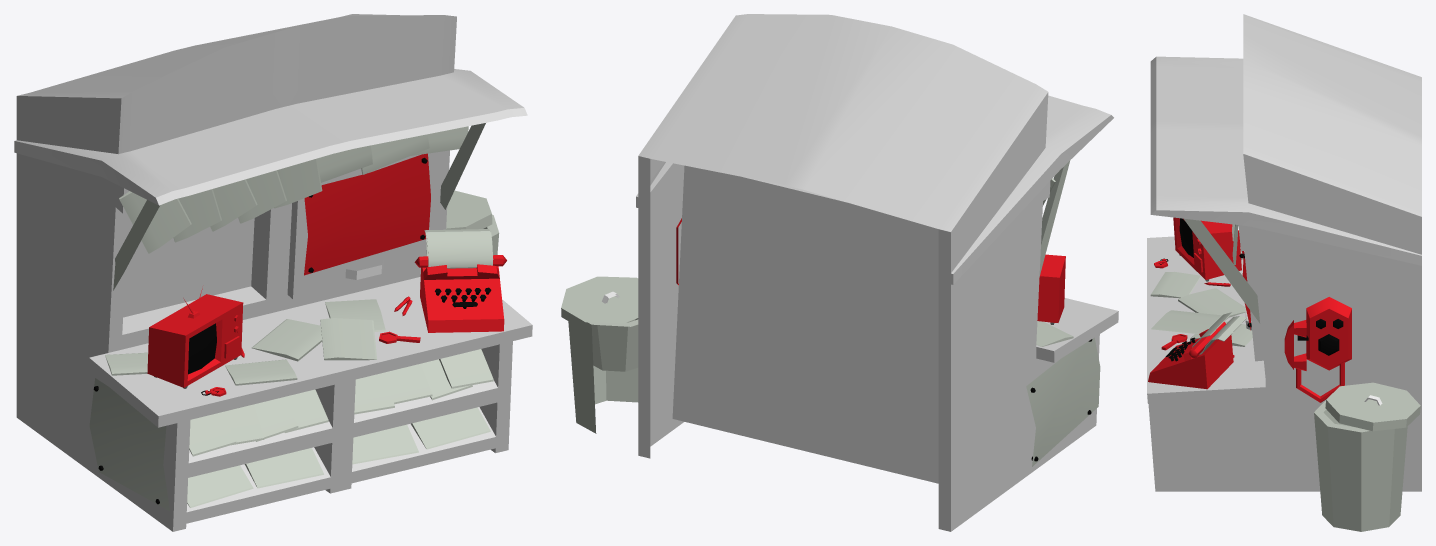
File: standFULL.glb
The picture shows the model from 3 angles, left to right: view 1: azimuth 30°, elevation 25°; view 2: azimuth 150°, elevation 25°; view 3: azimuth 270°, elevation 25°; orthographic projection. The views are drawn at different scales.
Visible parts, largest first — view 1: Stand, HowToPlay, Paper, TV_Body, TypeWriterBase, TypeWriterPaper, SupportBeams, NewspaperSide2, NewspaperSide4, NewspaperSide14, NewspaperSide15, NewspaperSide (+22 smaller); view 2: Stand, TrashCanBase, Paper, TrashCanLid, TV_Body, SupportBeams; view 3: Stand, TrashCanBase, TrashCanLid, TypeWriterBase, Tele_WallMount, TV_Body, SupportBeams, NewspaperSide, NewspaperSide2, NewspaperSide12, TypeWriterPaper, Tele_Cord (+4 smaller).
Part boxes in pixels (x1,y1,x2,y2): Stand: (14, 14, 532, 531); HowToPlay: (304, 153, 430, 275); Paper: (89, 378, 169, 511); TV_Body: (147, 294, 243, 387); TypeWriterBase: (420, 264, 504, 332); TypeWriterPaper: (424, 229, 493, 268); SupportBeams: (113, 123, 485, 290); NewspaperSide2: (320, 318, 377, 360); NewspaperSide4: (119, 191, 191, 253); NewspaperSide14: (244, 448, 323, 488); NewspaperSide15: (411, 407, 490, 449); NewspaperSide: (251, 319, 322, 361); Stand: (636, 14, 1118, 531); TrashCanBase: (568, 318, 638, 433); Paper: (1026, 337, 1100, 466); TrashCanLid: (561, 276, 638, 330); TV_Body: (1037, 254, 1065, 322); SupportBeams: (1039, 160, 1070, 275); Stand: (1147, 14, 1421, 491); TrashCanBase: (1314, 400, 1407, 531); TrashCanLid: (1325, 382, 1420, 431); TypeWriterBase: (1148, 329, 1233, 389); Tele_WallMount: (1306, 297, 1351, 370); TV_Body: (1173, 217, 1241, 279); SupportBeams: (1184, 218, 1260, 323); NewspaperSide: (1178, 288, 1245, 317); NewspaperSide2: (1151, 310, 1228, 334); NewspaperSide12: (1150, 271, 1200, 298); TypeWriterPaper: (1192, 312, 1246, 354); Tele_Cord: (1296, 362, 1344, 402).
Size of the model in its own units: 32.4 by 28.56 by 19.62.
